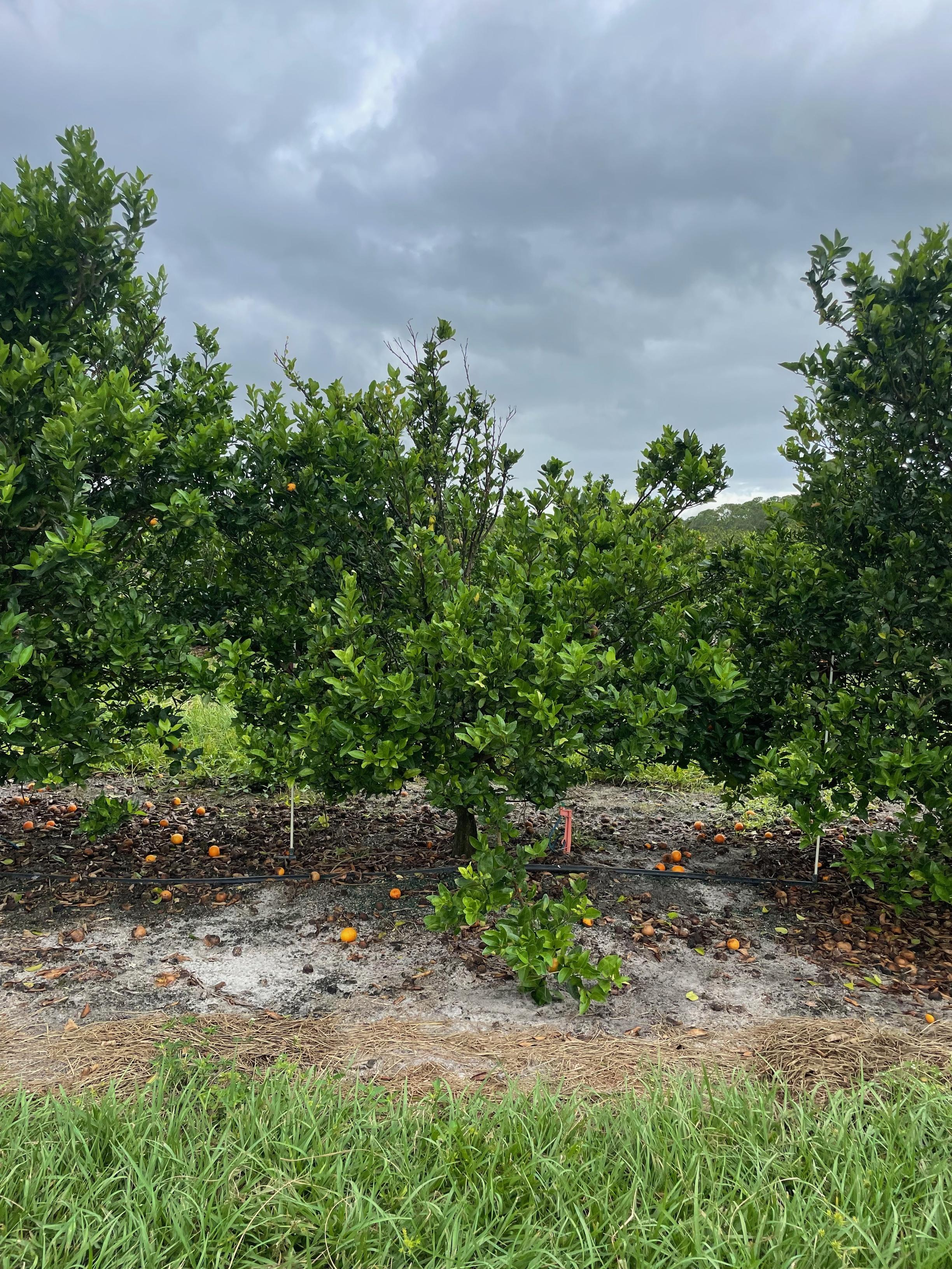fruit_on_ground: (544, 955, 564, 975), (581, 622, 601, 640), (144, 514, 157, 527), (285, 481, 297, 492)
fruit_on_tree: (339, 925, 358, 942), (202, 932, 221, 948), (67, 926, 86, 942), (131, 924, 148, 939), (640, 923, 656, 938), (725, 936, 740, 951), (207, 843, 222, 858), (838, 911, 854, 925), (159, 887, 174, 901), (669, 849, 684, 863), (214, 889, 229, 902), (670, 862, 686, 874), (389, 886, 403, 899), (21, 819, 35, 832), (922, 1012, 937, 1024), (581, 916, 595, 928), (653, 859, 667, 871), (660, 852, 674, 864), (176, 822, 189, 834), (712, 832, 725, 844), (170, 832, 183, 844), (143, 853, 157, 864), (274, 864, 286, 876), (18, 796, 31, 807), (44, 818, 57, 829), (10, 794, 24, 804), (310, 870, 322, 881), (66, 802, 78, 813), (170, 796, 182, 807), (693, 819, 705, 830), (681, 848, 692, 859), (158, 816, 169, 827), (122, 837, 134, 847), (142, 799, 154, 809), (656, 841, 668, 851), (733, 821, 745, 831), (141, 816, 152, 826), (642, 841, 654, 850), (744, 808, 756, 817), (425, 839, 435, 849), (763, 831, 774, 840), (195, 806, 206, 815)
